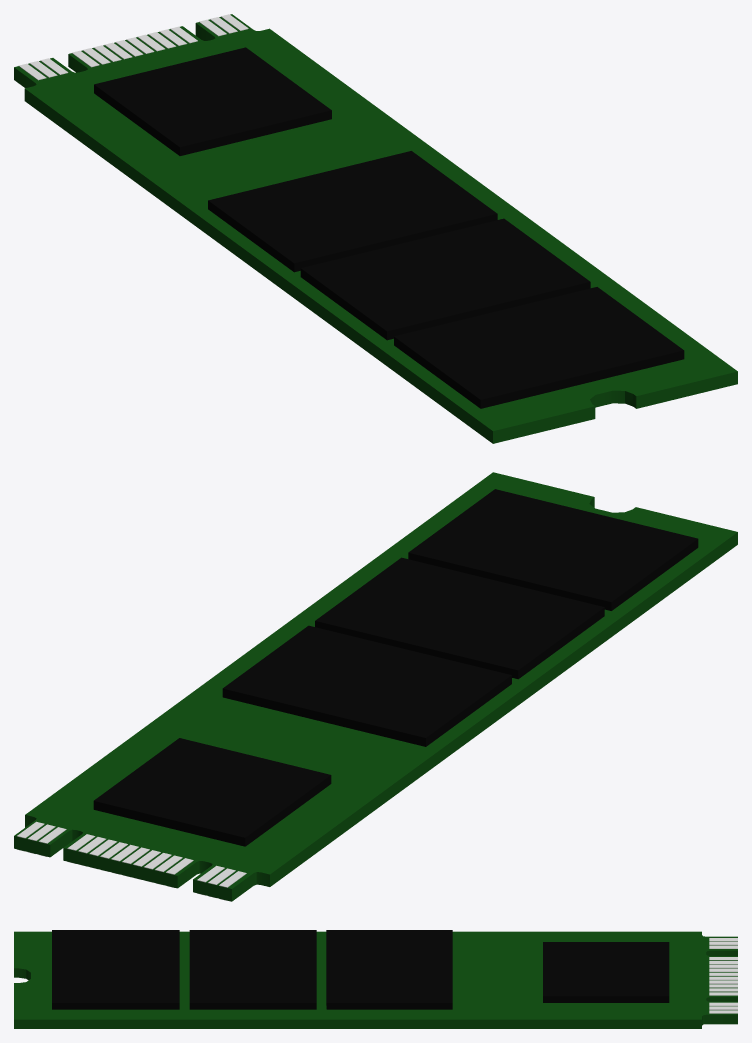
The model's file is SSD.fbx.
The picture shows the model from 3 angles, top to bottom: view 1: azimuth 30°, elevation 25°; view 2: azimuth 150°, elevation 25°; view 3: azimuth 270°, elevation 25°; orthographic projection. The views are drawn at different scales.
Visible parts, largest first — view 1: ssd_lp, Plane.001; view 2: ssd_lp, Plane.001; view 3: ssd_lp, Plane.001, Plane, Plane.002.
Part boxes in pixels (bbox=[...]): ssd_lp: bbox=[14, 14, 737, 443]; Plane.001: bbox=[72, 26, 197, 67]; ssd_lp: bbox=[14, 472, 737, 901]; Plane.001: bbox=[67, 834, 193, 874]; ssd_lp: bbox=[14, 930, 737, 1028]; Plane.001: bbox=[709, 957, 737, 995]; Plane: bbox=[709, 1002, 737, 1013]; Plane.002: bbox=[709, 938, 737, 948].
Size of the model in its own units: 49.66 by 4.27 by 173.
